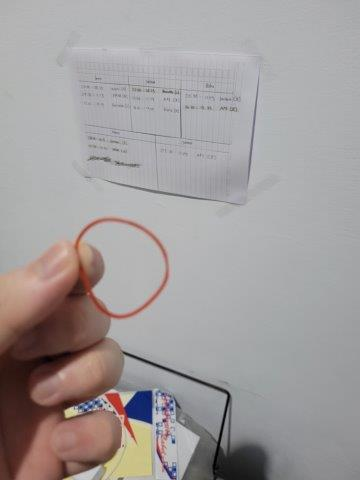karet: (75, 216, 171, 317)
